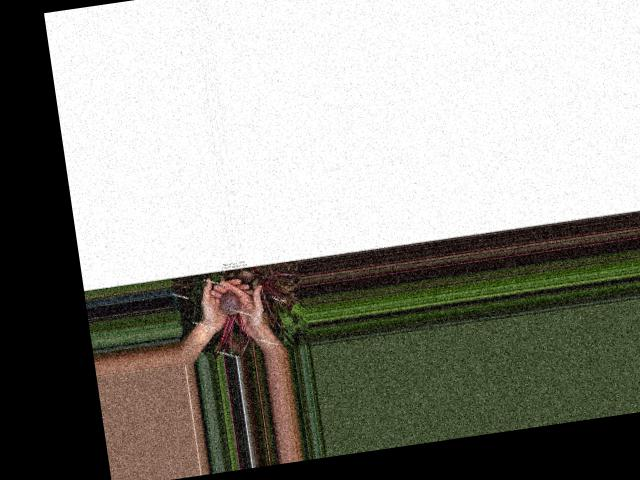beet: (205, 288, 253, 358)
